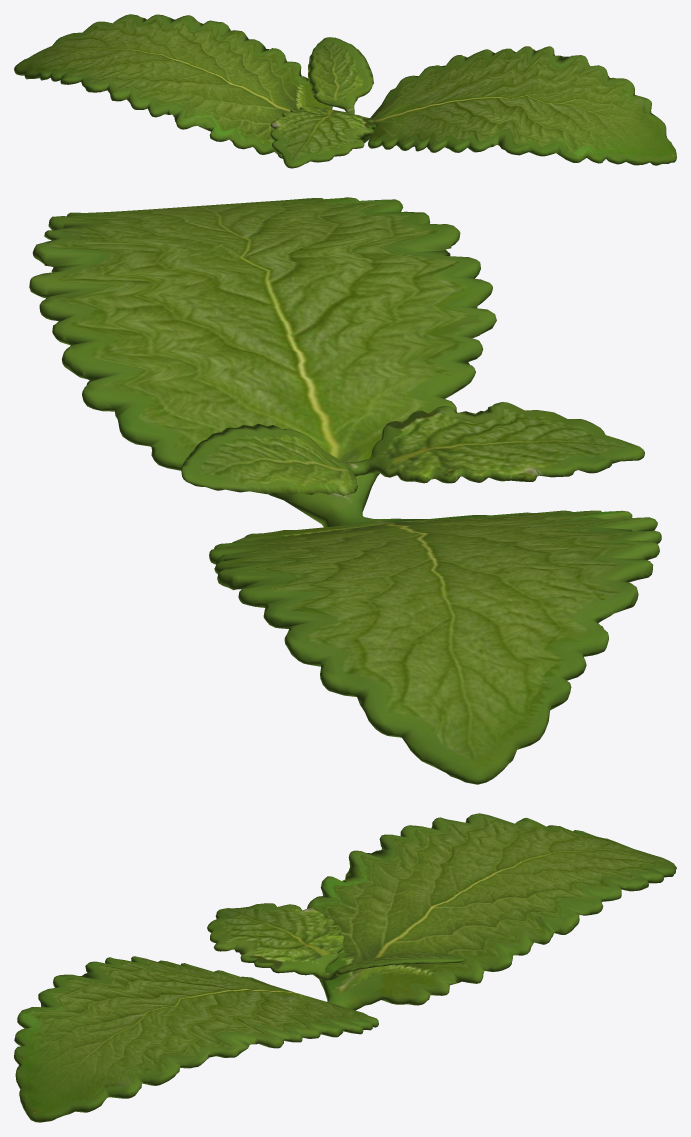
Rendered from Mint_Sprig.fbx.
3 views of the same model, one above another, from view 1: azimuth 30°, elevation 25°; view 2: azimuth 150°, elevation 25°; view 3: azimuth 270°, elevation 25° (orthographic). The views are drawn at different scales.
Parts seen in each view (by area): view 1: Mint_Sprig; view 2: Mint_Sprig; view 3: Mint_Sprig.
Part boxes in pixels (x1=…): Mint_Sprig: x1=14, y1=14, x2=676, y2=168; Mint_Sprig: x1=29, y1=197, x2=661, y2=784; Mint_Sprig: x1=14, y1=813, x2=676, y2=1122.
Bounding box in the file's own units: 0.06 × 0.0098 × 0.0636.
Materials: 1 (1 with a texture image).
